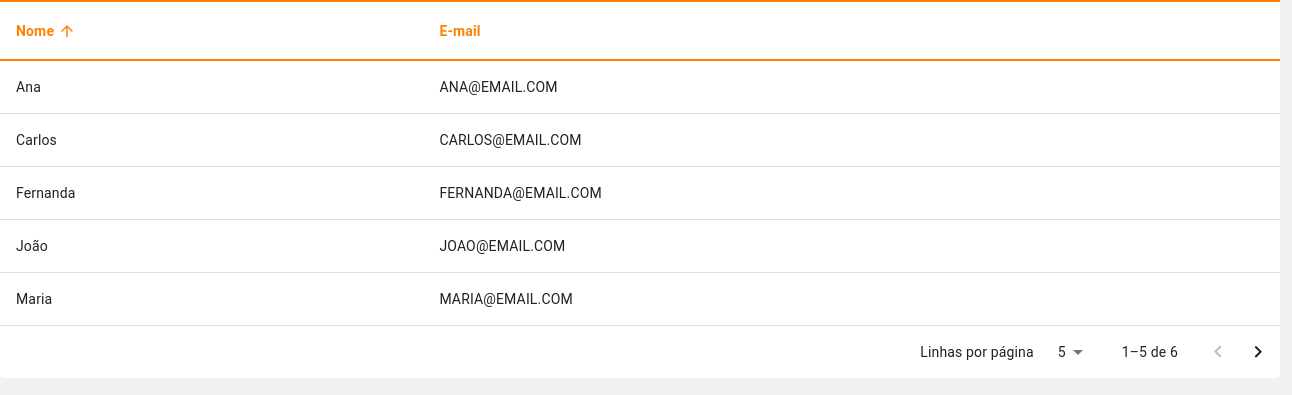
Scenario: GenericTable — extended coverage › client-side sorting toggles asc/desc and updates first row
Expected: the cell "Ana" is shown, [0,61,423,114]
Click the button "Nome" at (48, 31), box [16,19,80,43]
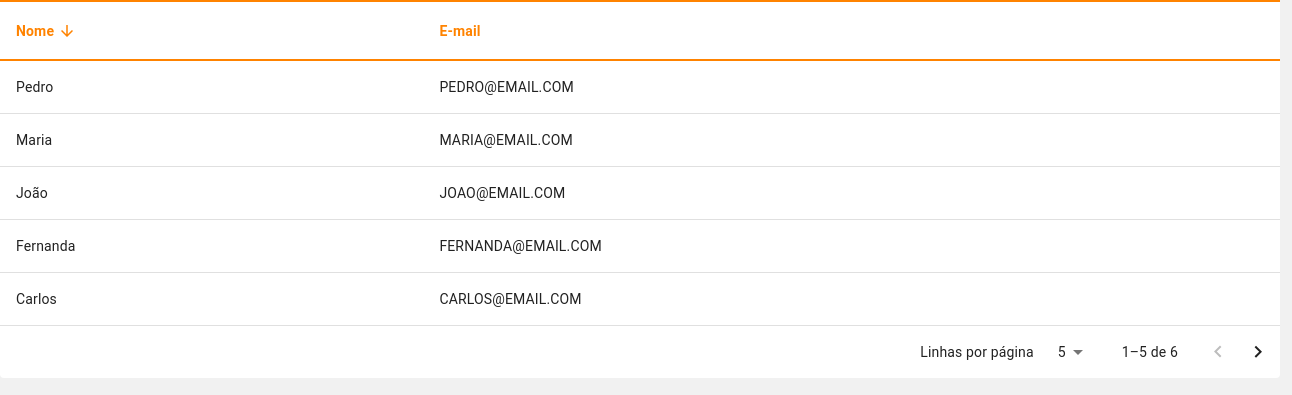
Expected: the cell "Pedro" no longer shows "Ana", [0,61,423,114]
Click the button "Nome" at (48, 31), box [16,19,80,43]
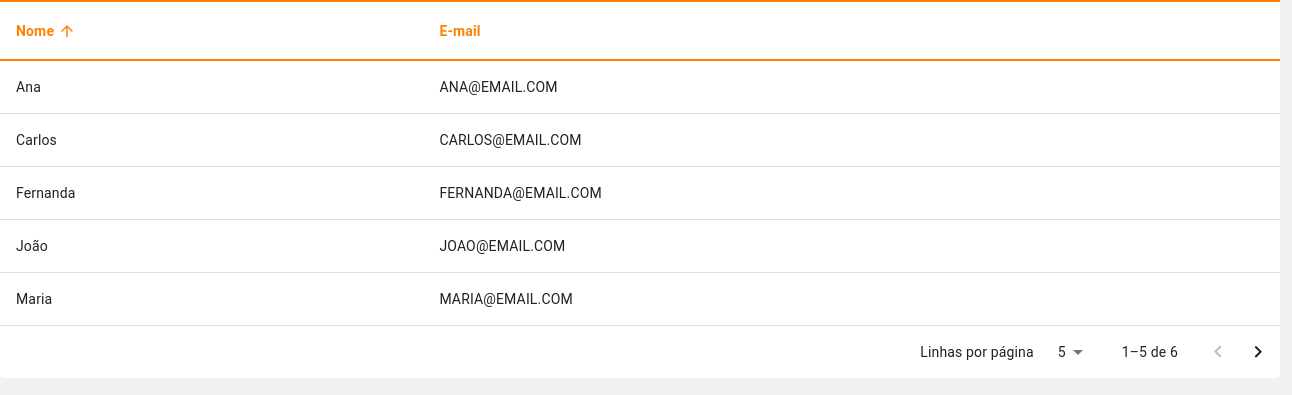
Expected: the cell "Ana" is shown, [0,61,423,114]
